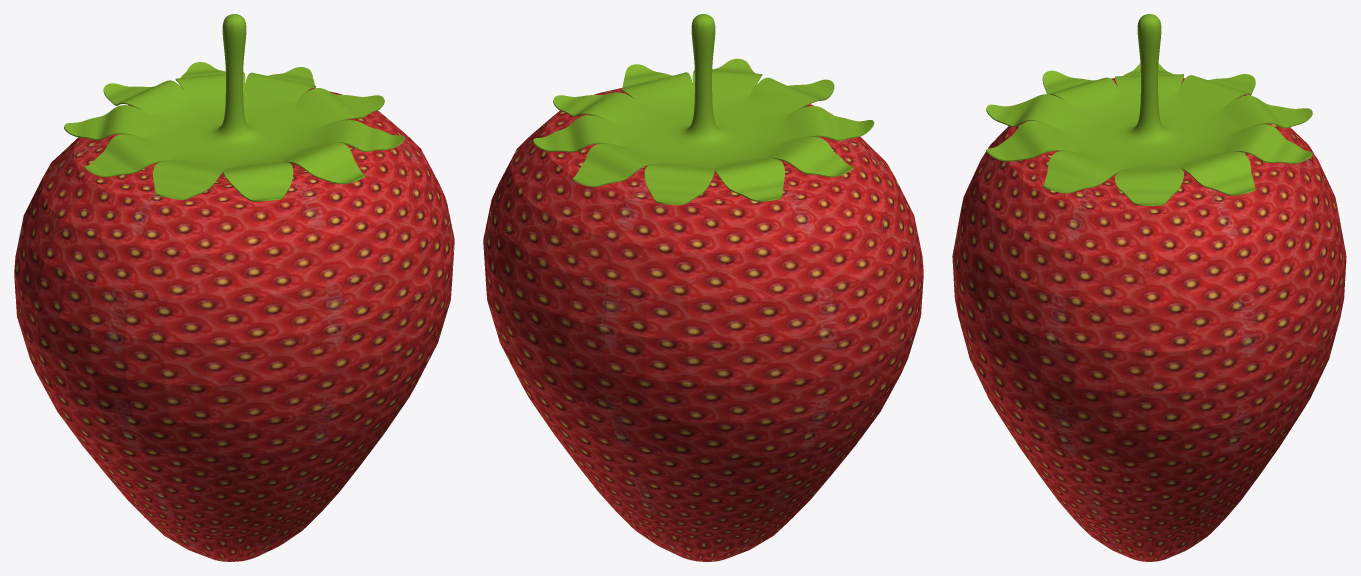
The model's file is strawberry_real_design.glb.
3 renders of one model, left to right at view 1: azimuth 30°, elevation 25°; view 2: azimuth 150°, elevation 25°; view 3: azimuth 270°, elevation 25°, orthographic.
Parts seen in each view (by area): view 1: Sphere_0, Circle_1; view 2: Sphere_0, Circle_1; view 3: Sphere_0, Circle_1.
Boxes of the visible parts, x1,y1,x2,y2 form: Sphere_0: (14, 88, 454, 561); Circle_1: (64, 14, 404, 201); Sphere_0: (483, 83, 923, 561); Circle_1: (533, 14, 874, 205); Sphere_0: (952, 78, 1346, 561); Circle_1: (986, 14, 1312, 205).
Bounding box in the file's own units: 3.72 × 4.84 × 3.22.
2 materials, 2 textured.
